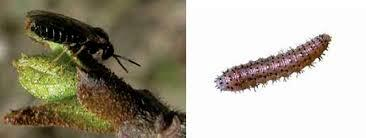Caterpillar: (210, 32, 334, 96)
